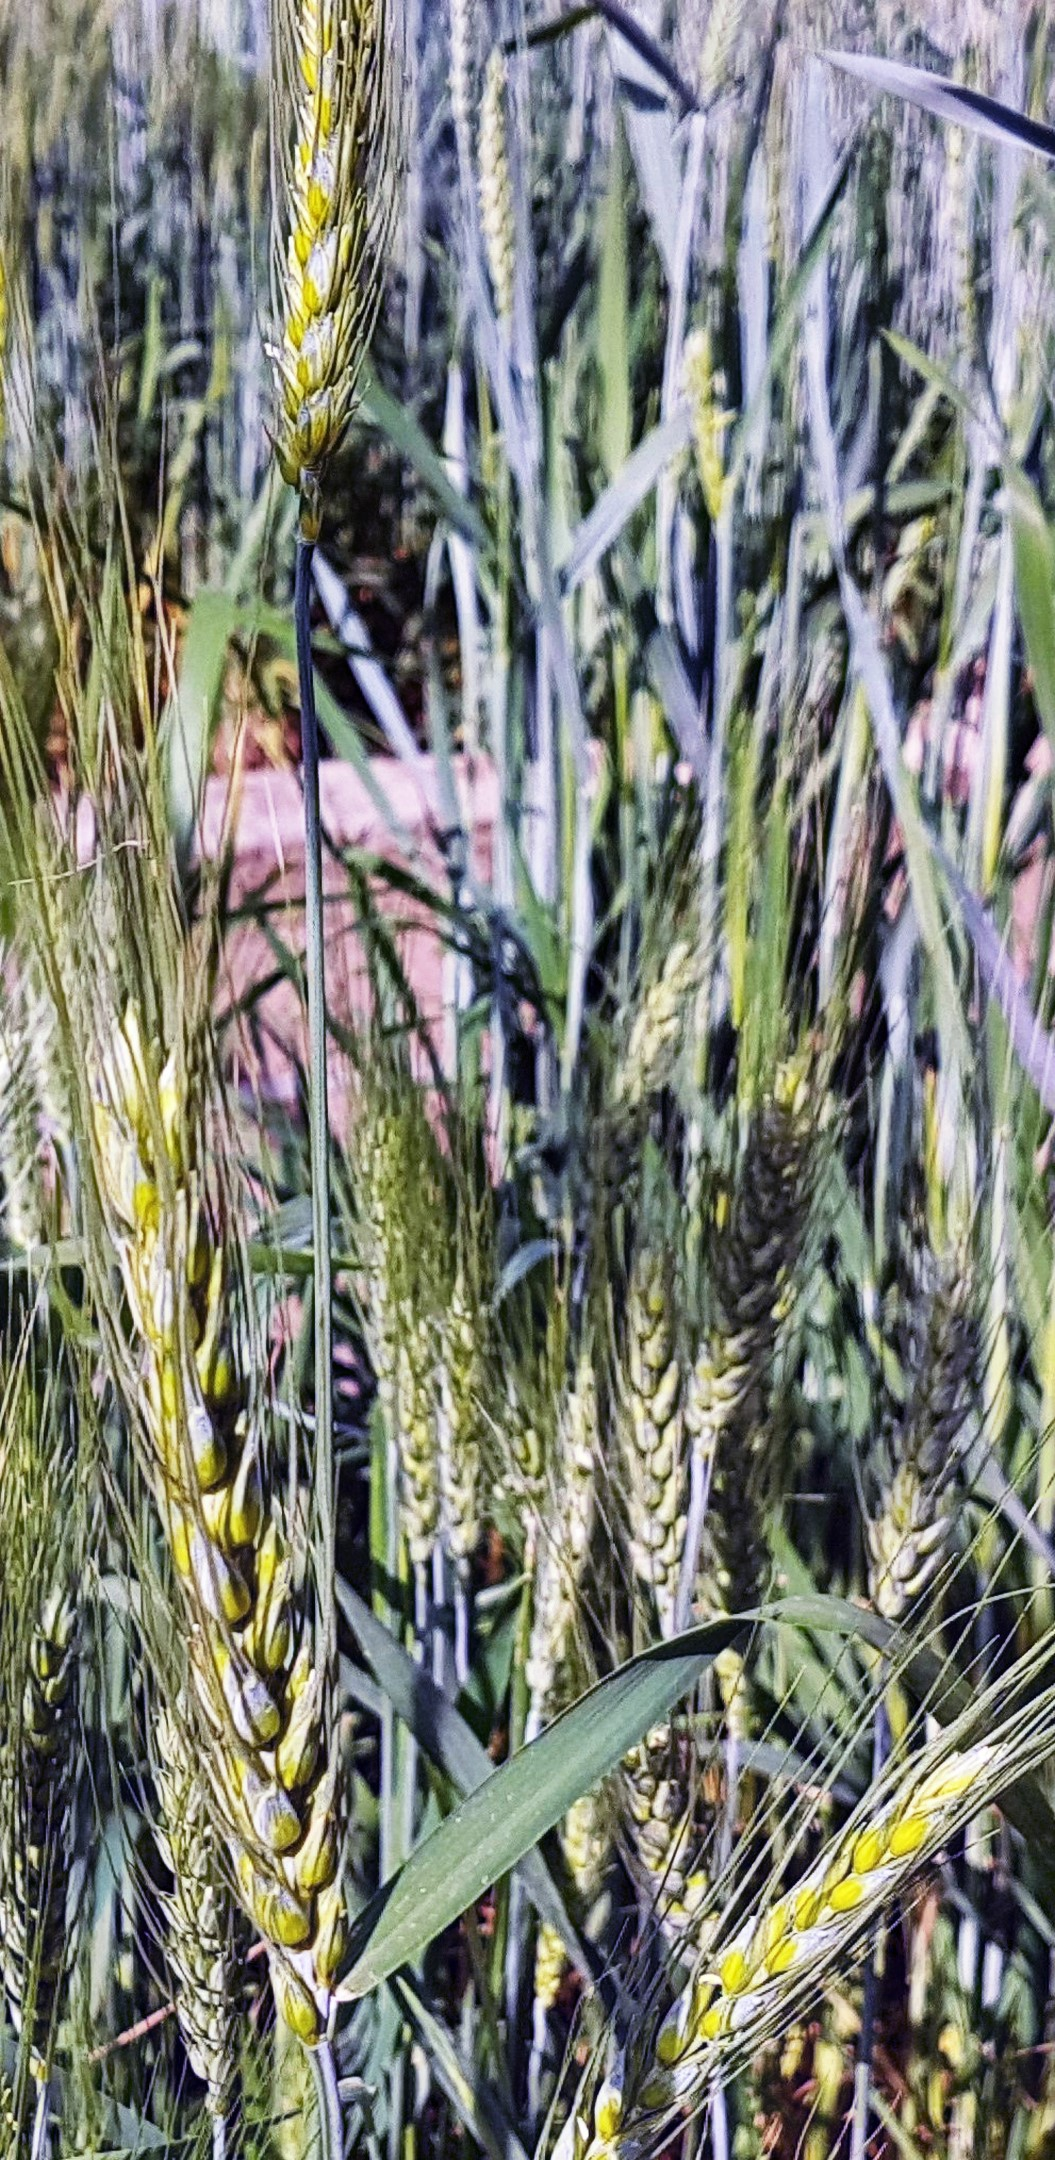Healthy Wheat: (70, 1017, 355, 1926), (247, 1, 426, 526)
